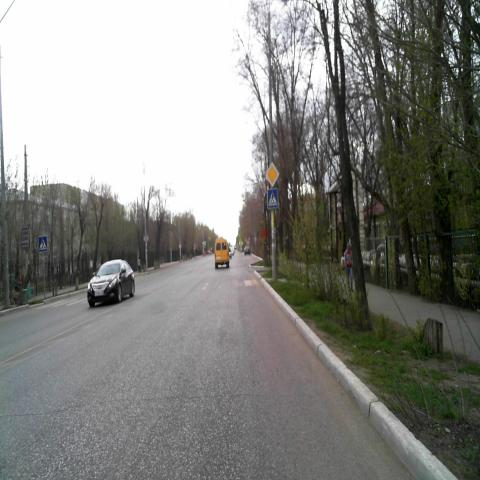2_1: (265, 161, 279, 187)
5_19_1: (267, 189, 278, 208), (38, 235, 47, 252)
